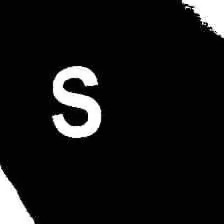LTR_S: (45, 62, 103, 139)
